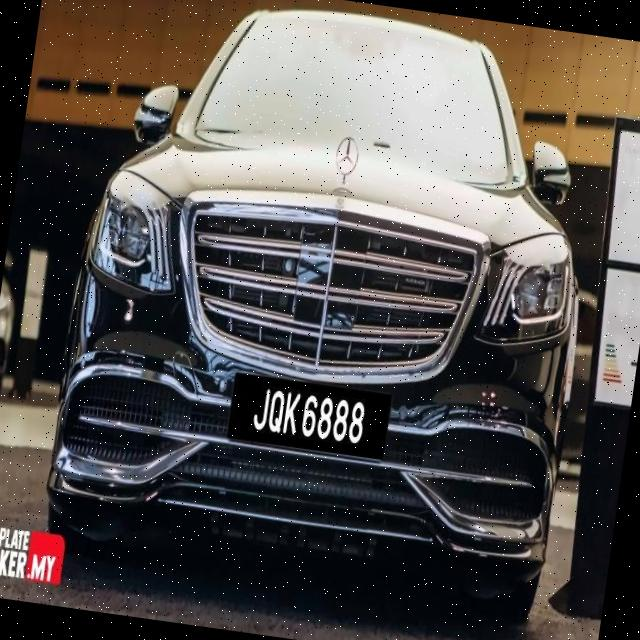License_Plate: (219, 365, 400, 468)
car: (20, 1, 625, 640)
